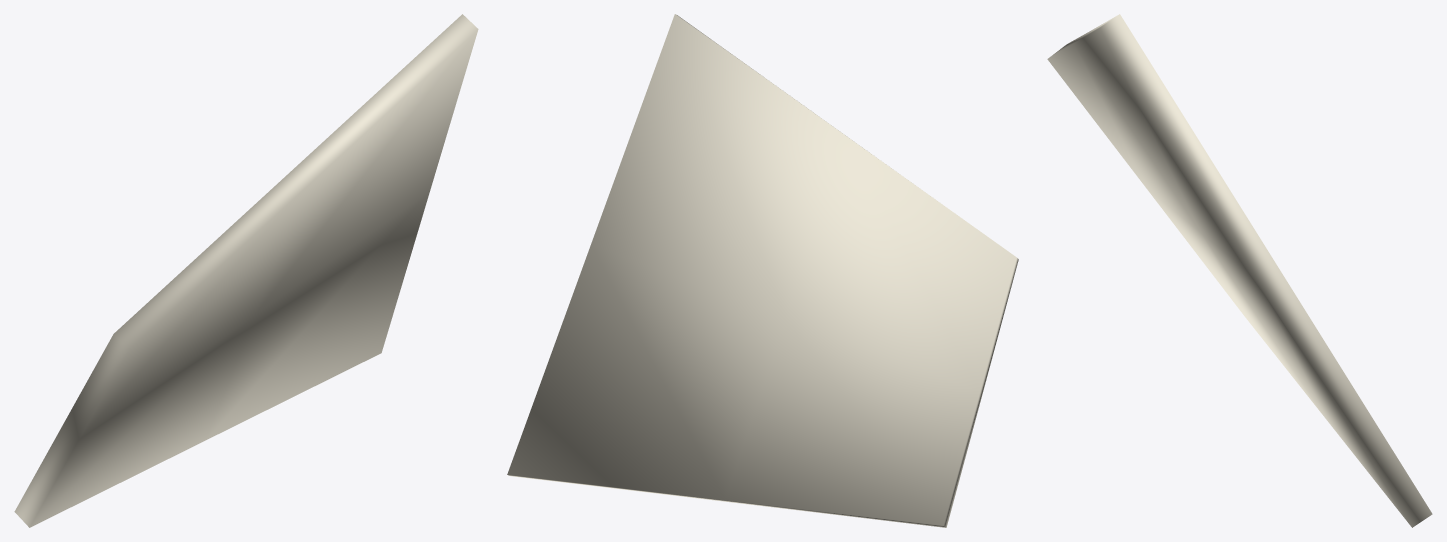
3 renders of one model, left to right at view 1: azimuth 30°, elevation 25°; view 2: azimuth 150°, elevation 25°; view 3: azimuth 270°, elevation 25°, orthographic. The views are drawn at different scales.
Visible parts, largest first — view 1: ZA_acb77fda82d003c2; view 2: ZA_acb77fda82d003c2; view 3: ZA_acb77fda82d003c2.
Part boxes in pixels (x1,y1,x2,y2): ZA_acb77fda82d003c2: [14, 14, 478, 527]; ZA_acb77fda82d003c2: [507, 14, 1018, 527]; ZA_acb77fda82d003c2: [1047, 14, 1432, 527].
Bounding box in the file's own units: 0.0109 × 0.0111 × 0.0078.
